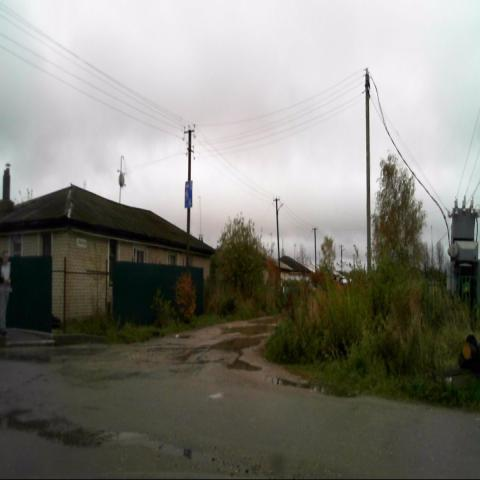5_21: (184, 180, 192, 208)
